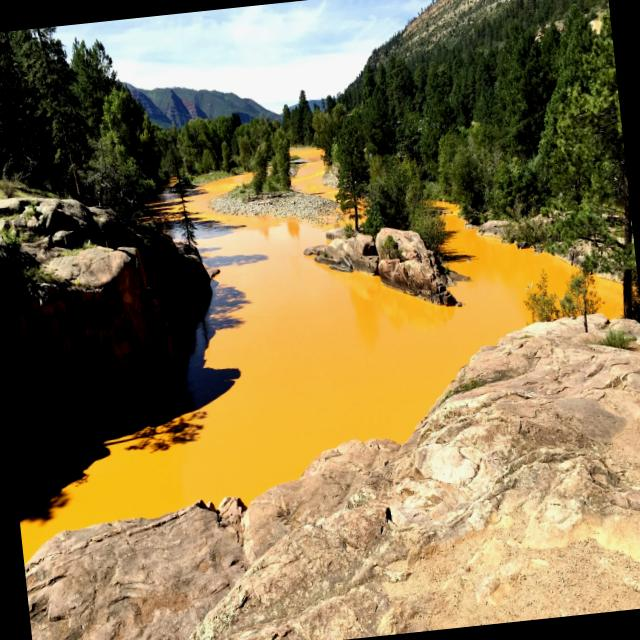yellow_boy: (20, 175, 572, 555), (292, 147, 336, 199)
